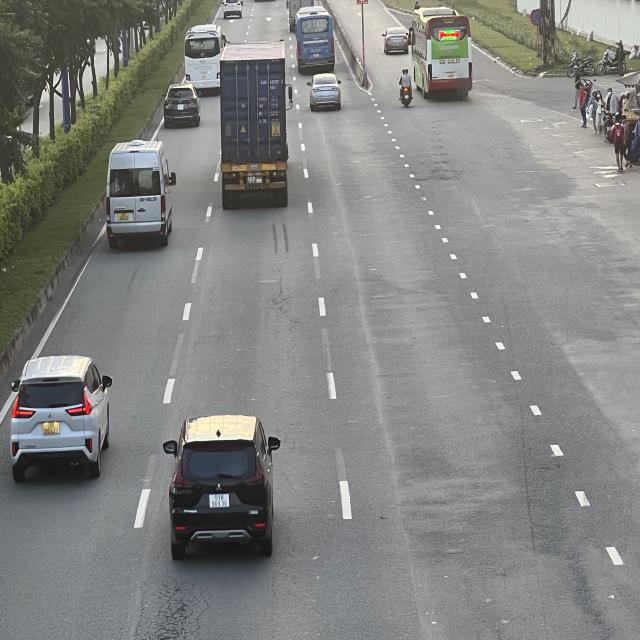car: (162, 418, 280, 561), (10, 356, 114, 480), (162, 85, 202, 129), (309, 72, 345, 110), (383, 26, 413, 56), (224, 0, 245, 19)
coach: (414, 9, 470, 101), (184, 24, 226, 91), (294, 4, 334, 70)
container: (222, 43, 292, 206)
van: (106, 142, 176, 252)
